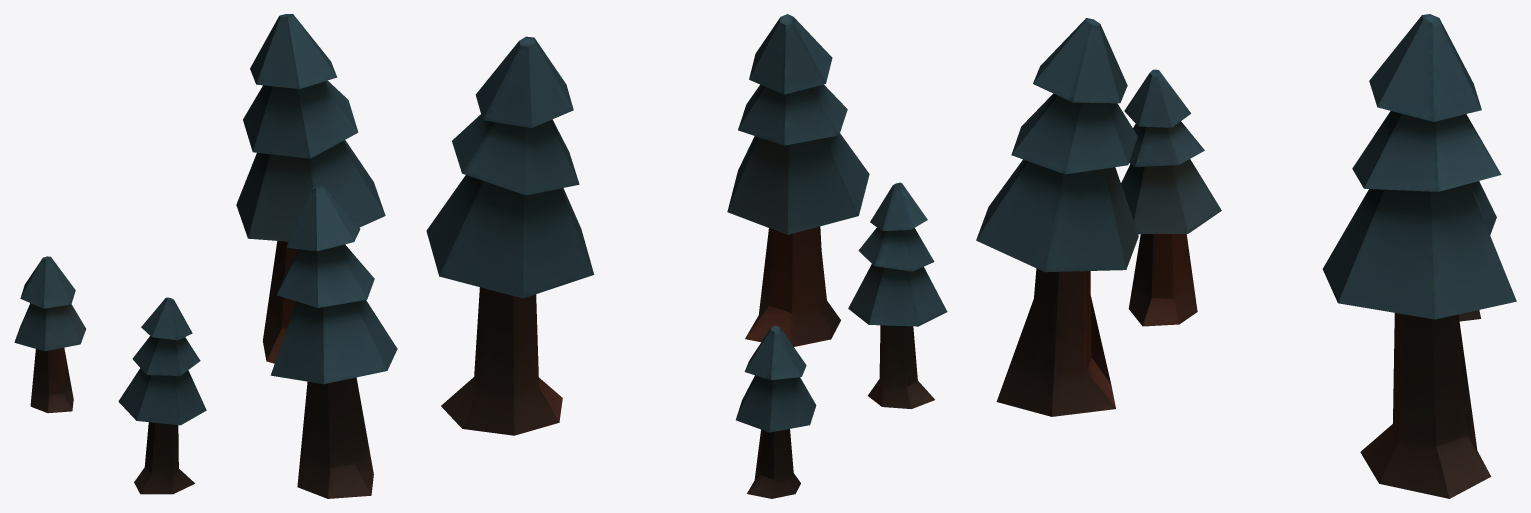
Rendered from tile_wood_2_lod2.fbx.
3 views of the same model, side by side, from view 1: azimuth 30°, elevation 25°; view 2: azimuth 150°, elevation 25°; view 3: azimuth 270°, elevation 25° (orthographic). The views are drawn at different scales.
Visible parts, largest first — view 1: wood_2_lod2; view 2: wood_2_lod2; view 3: wood_2_lod2.
Part boxes in pixels (x1,y1,x2,y2): wood_2_lod2: (14, 14, 397, 498); wood_2_lod2: (426, 14, 947, 498); wood_2_lod2: (976, 14, 1516, 498).
Size of the model in its own units: 0.0496 by 0.0457 by 0.0511.
